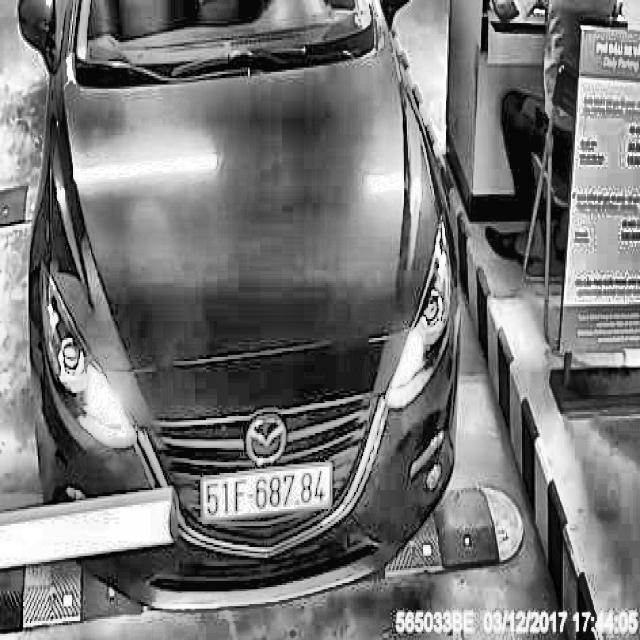plate: (196, 456, 335, 528)
